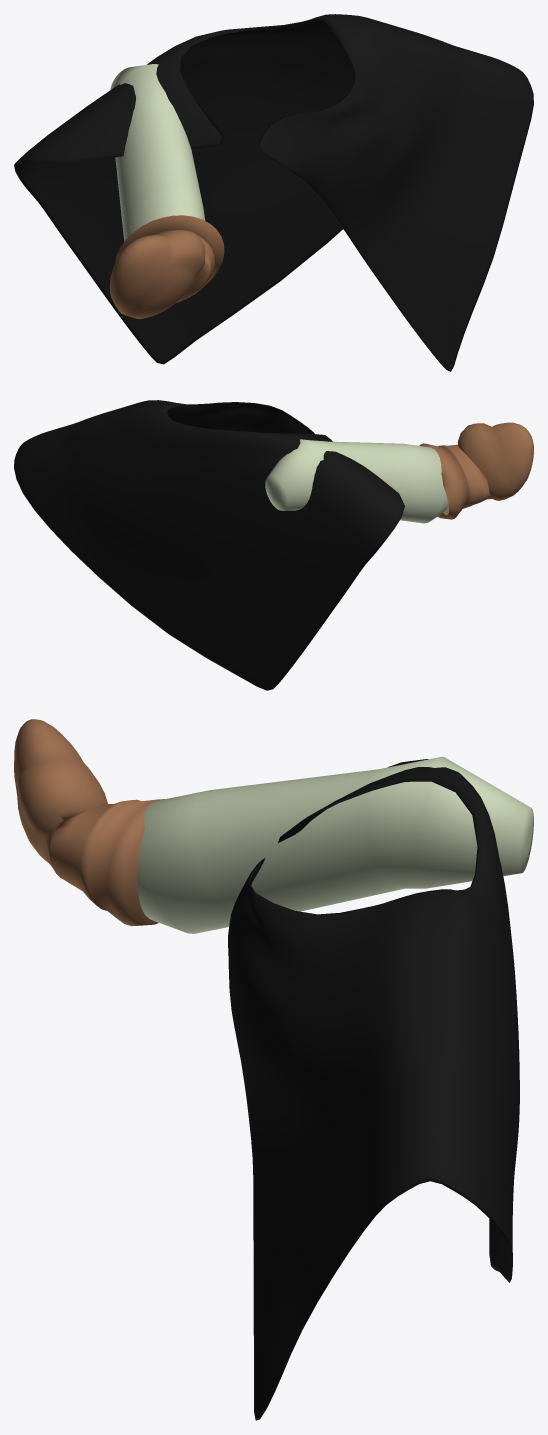
File: CornCandy.fbx
The picture shows the model from 3 angles, top to bottom: view 1: azimuth 30°, elevation 25°; view 2: azimuth 150°, elevation 25°; view 3: azimuth 270°, elevation 25°; orthographic projection. The views are drawn at different scales.
Parts seen in each view (by area): view 1: Poncho.004, BrazoR.001, Mano.001; view 2: Poncho.004, BrazoR.001, Mano.001; view 3: Poncho.004, BrazoR.001, Mano.001.
Boxes of the visible parts, box(x1,y1,x2,y2) form: Poncho.004: box(14, 14, 533, 371); BrazoR.001: box(110, 64, 205, 241); Mano.001: box(109, 215, 224, 318); Poncho.004: box(14, 400, 404, 690); BrazoR.001: box(265, 439, 448, 523); Mano.001: box(419, 422, 533, 519); Poncho.004: box(228, 759, 519, 1420); BrazoR.001: box(137, 756, 533, 933); Mano.001: box(14, 719, 164, 926).
Size of the model in its own units: 2.11 by 1.22 by 1.18.
